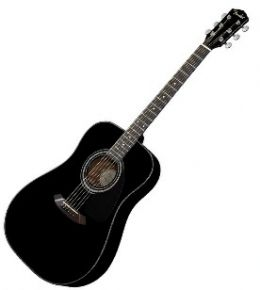guitar: (3, 5, 250, 288)
